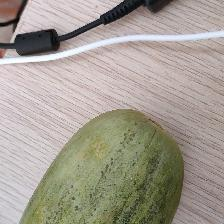gua: (68, 123, 151, 216)
